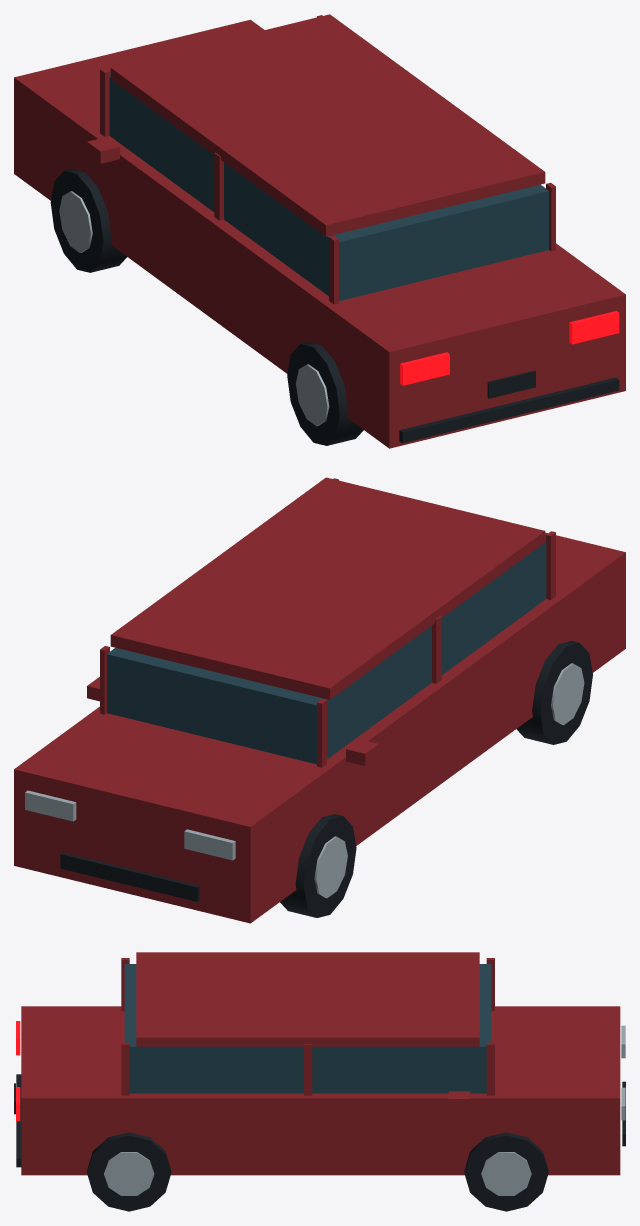
The model's file is traffic-wagon.glb.
3 views of the same model, one above another, from view 1: azimuth 30°, elevation 25°; view 2: azimuth 150°, elevation 25°; view 3: azimuth 270°, elevation 25° (orthographic). The views are drawn at different scales.
Visible parts, largest first — view 1: lod_body, lod_glass, lod_dark, lod_metal, brake_lights; view 2: lod_body, lod_glass, lod_dark, lod_metal; view 3: lod_body, lod_glass, lod_dark, lod_metal.
Part boxes in pixels (x1,y1,x2,y2): lod_body: (14,14,625,448); lod_glass: (109,74,548,300); lod_dark: (50,169,619,445); lod_metal: (59,191,329,426); brake_lights: (400,311,619,385); lod_body: (14,477,625,923); lod_glass: (107,537,546,764); lod_dark: (60,641,592,917); lod_metal: (25,663,584,898); lod_body: (21,952,620,1175); lod_glass: (124,964,491,1093); lod_dark: (14,1074,625,1211); lod_metal: (104,1025,625,1195).
Bounding box in the file's own units: 2.01 × 1.45 × 4.8.
